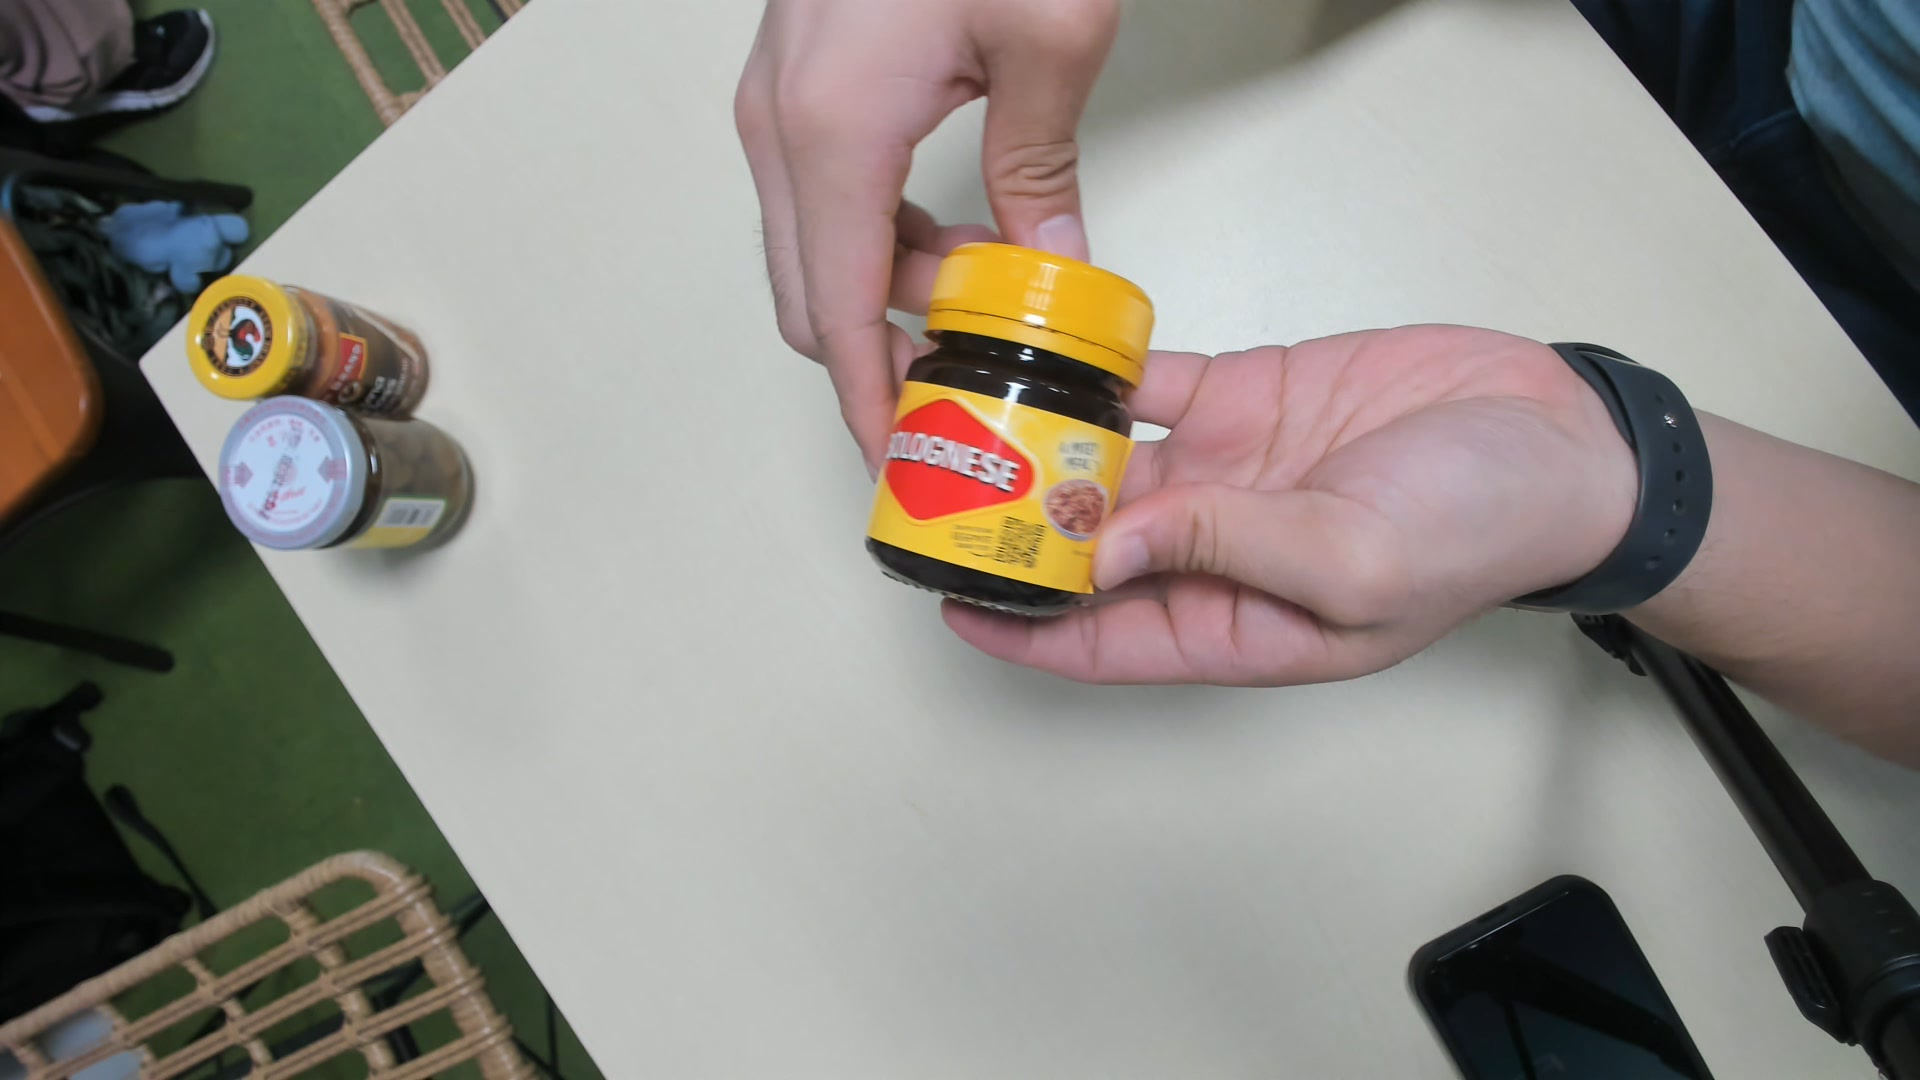OtherSauceDressing_200-299g_Halal_NonHealthy: (865, 247, 1146, 626)
